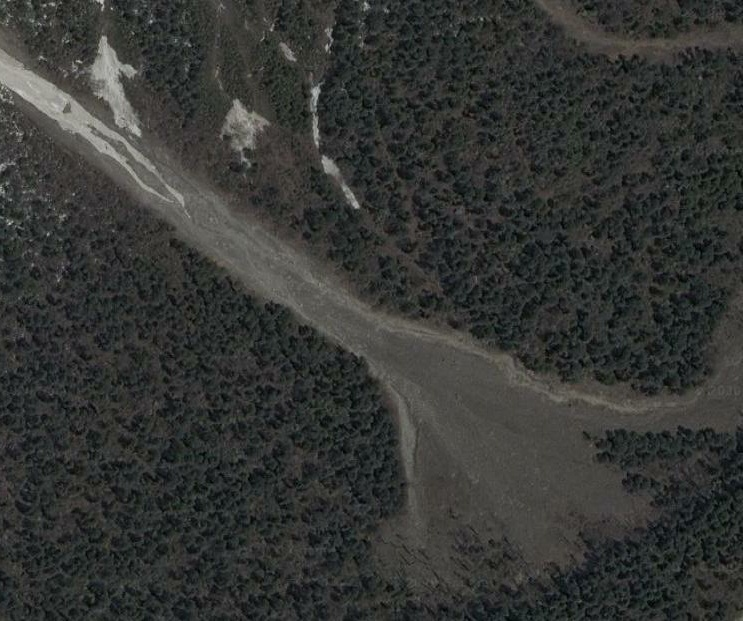slope: (84, 34, 156, 140), (217, 93, 272, 175)
